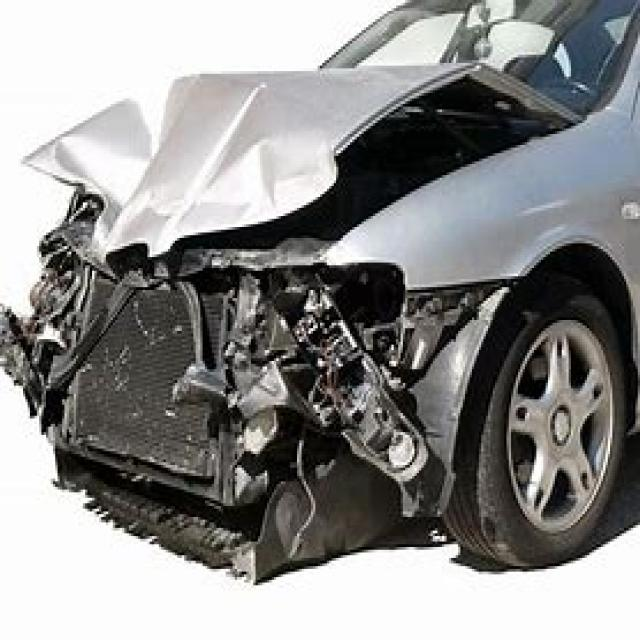Accident: (18, 52, 550, 603)
